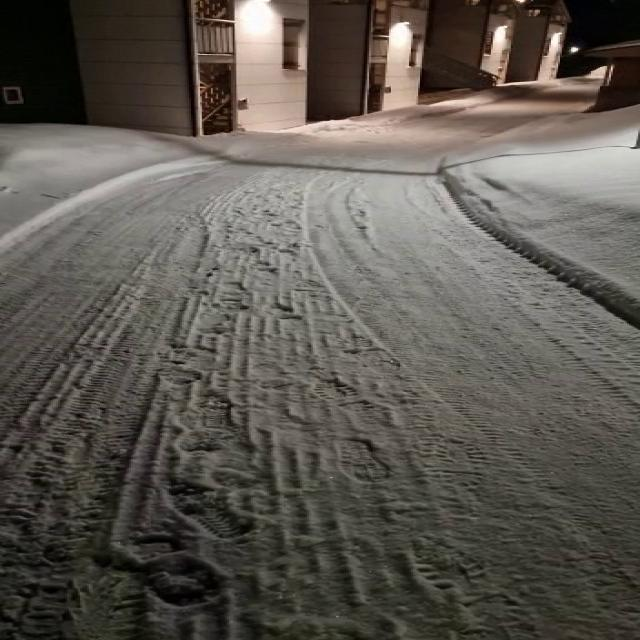path: (2, 80, 638, 640)
